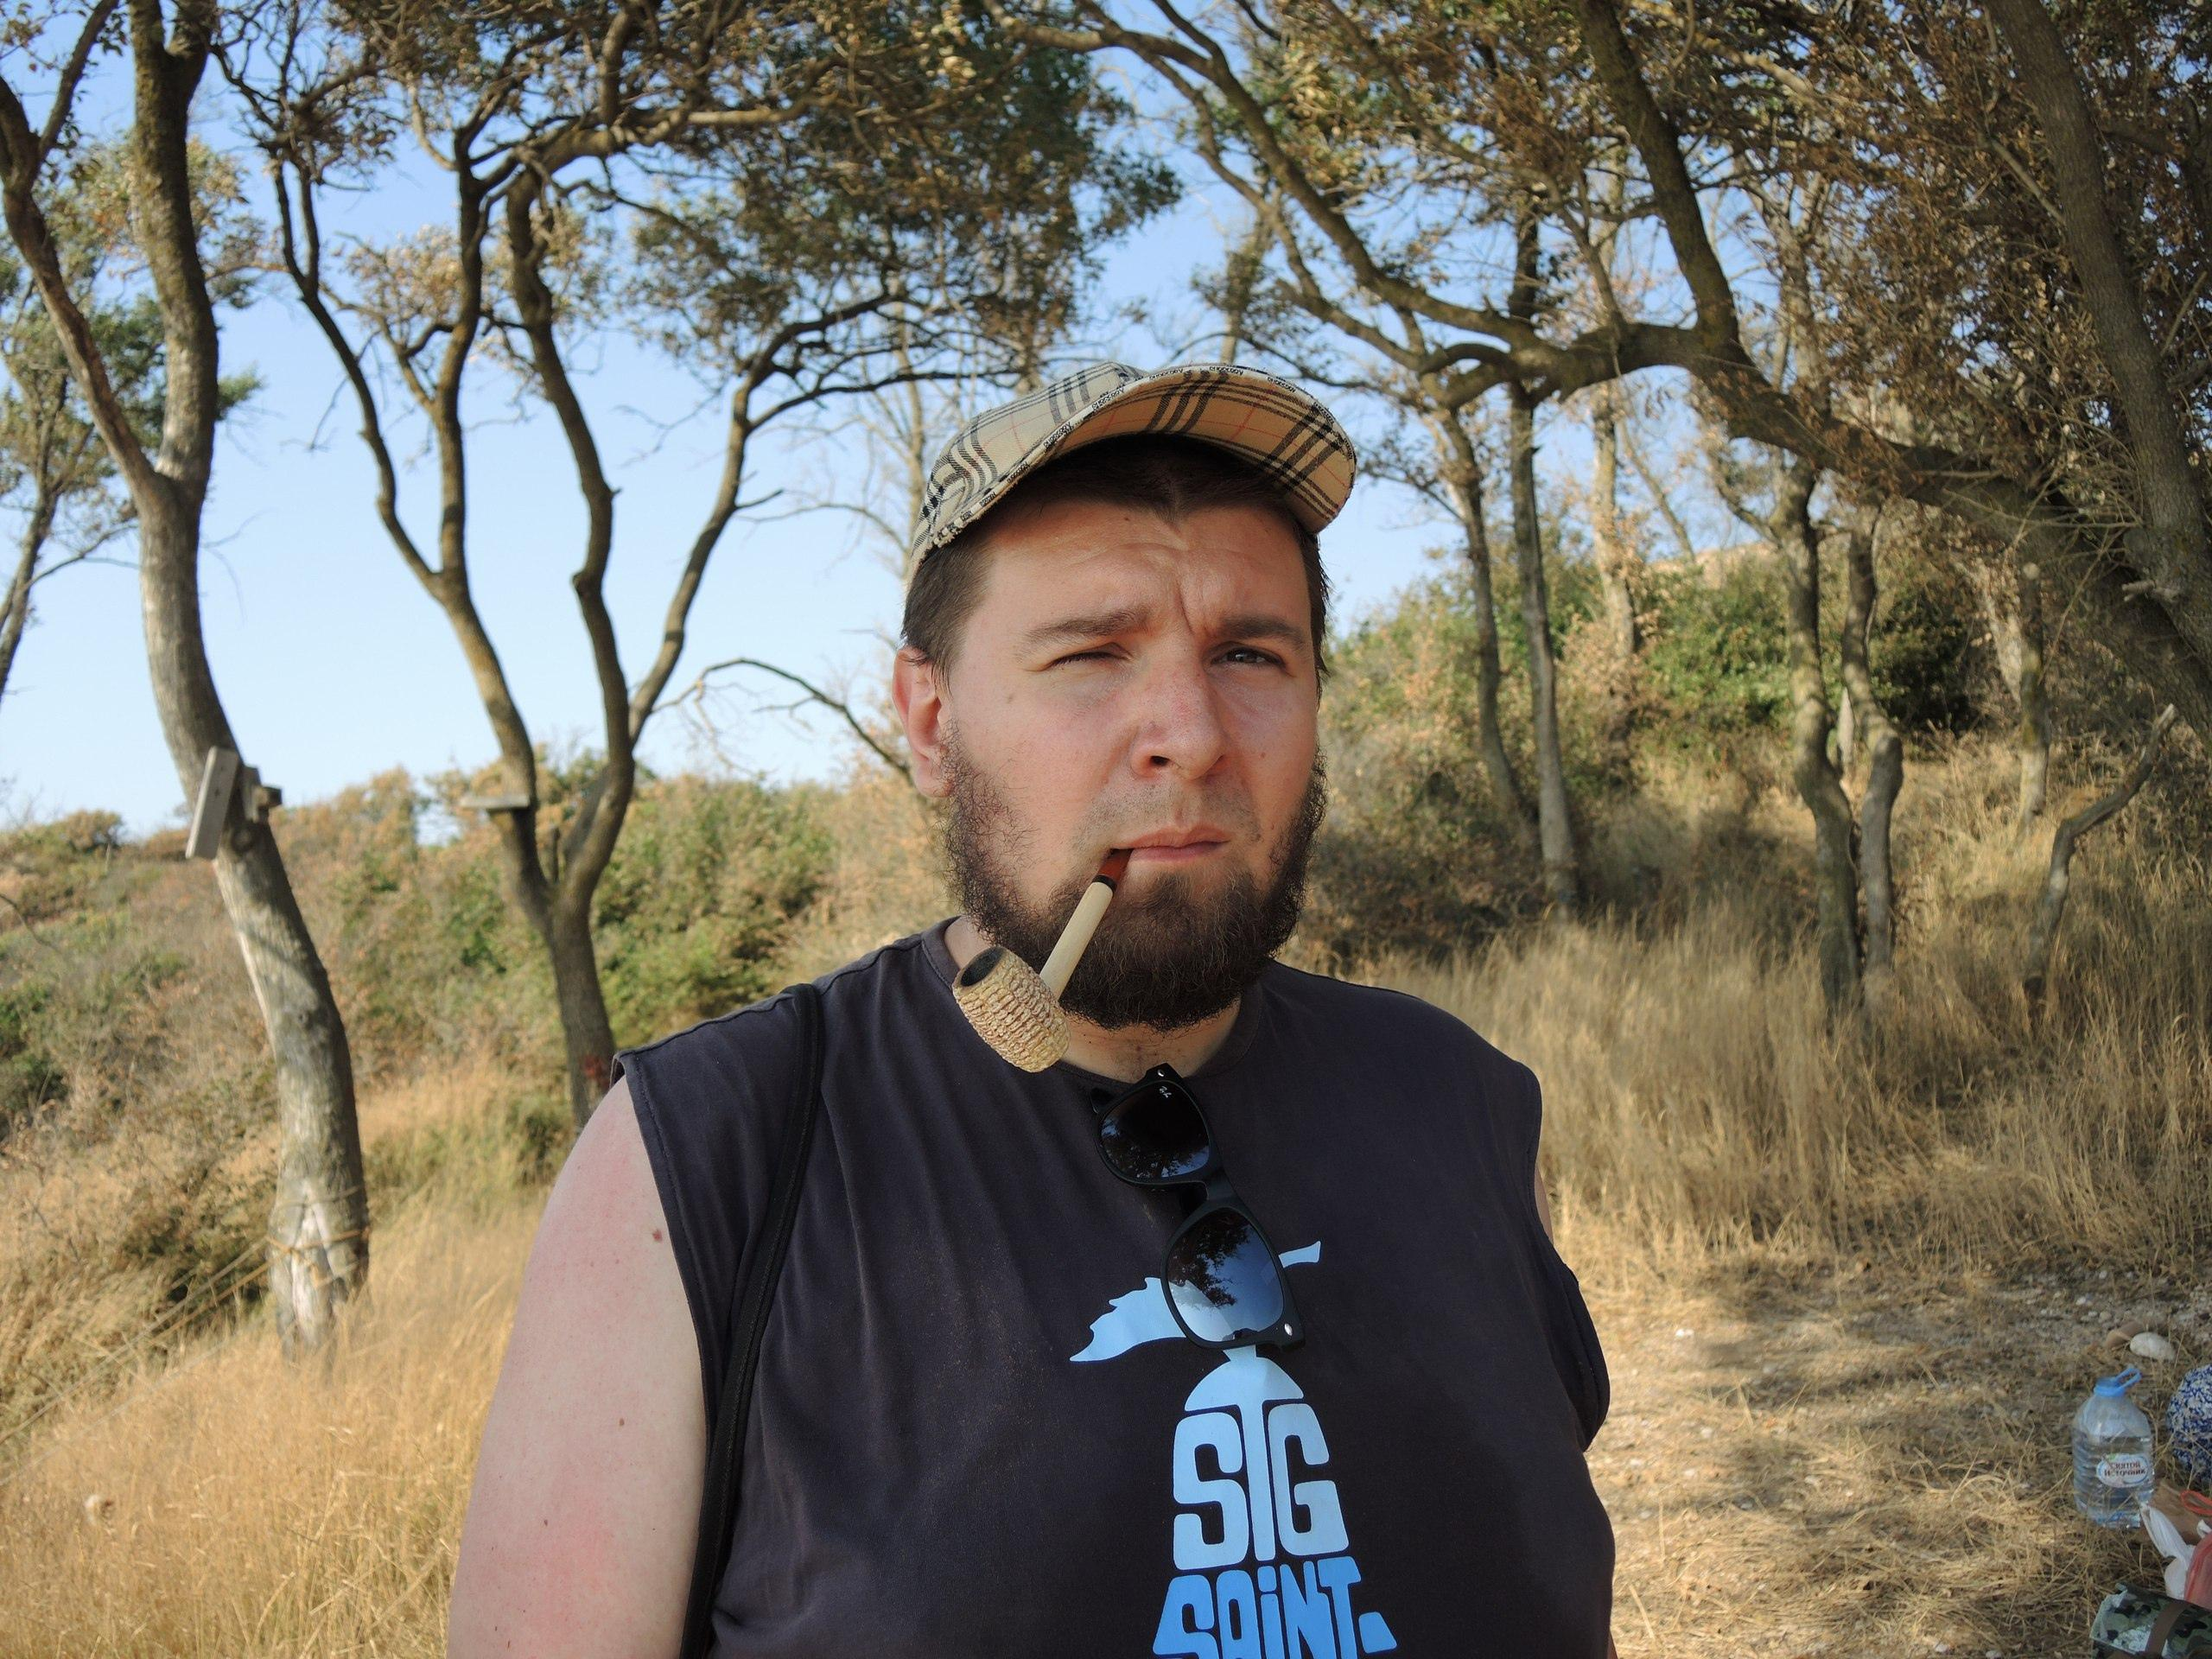trubka: (953, 852, 1125, 1072)
